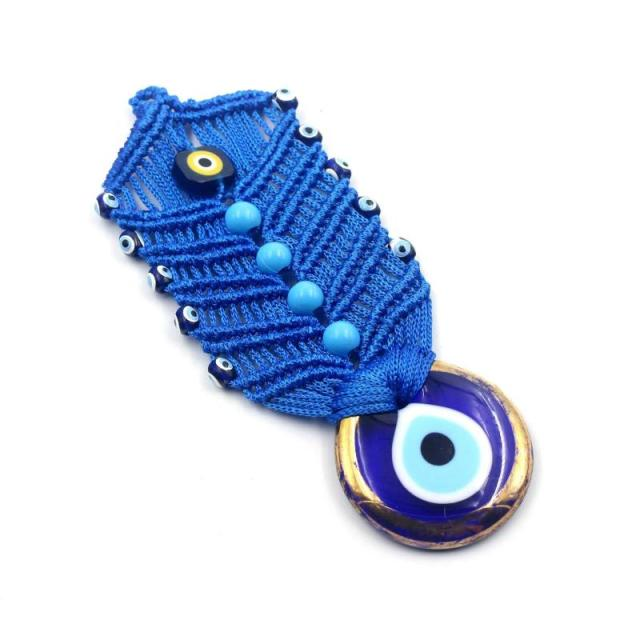Nazar-Boncugu: (335, 362, 534, 554)
